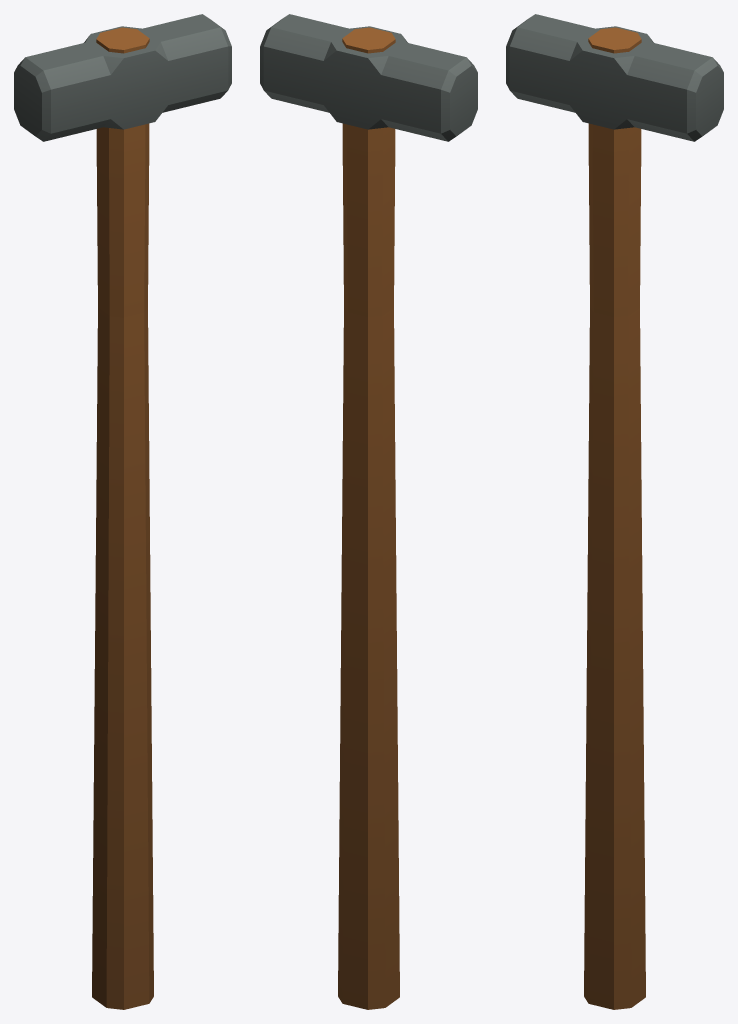
The model's file is Tool_Sledge_Hammer_01.obj.
3 renders of one model, left to right at view 1: azimuth 30°, elevation 25°; view 2: azimuth 150°, elevation 25°; view 3: azimuth 330°, elevation 25°, orthographic.
Parts seen in each view (by area): view 1: Tool_Sledge_Hammer_01; view 2: Tool_Sledge_Hammer_01; view 3: Tool_Sledge_Hammer_01.
Boxes of the visible parts, bbox=[...] form: Tool_Sledge_Hammer_01: bbox=[14, 14, 231, 1009]; Tool_Sledge_Hammer_01: bbox=[260, 14, 477, 1009]; Tool_Sledge_Hammer_01: bbox=[506, 14, 723, 1009].
Bounding box in the file's own units: 0.1899 × 0.9147 × 0.0574.
1 material, 1 textured.
